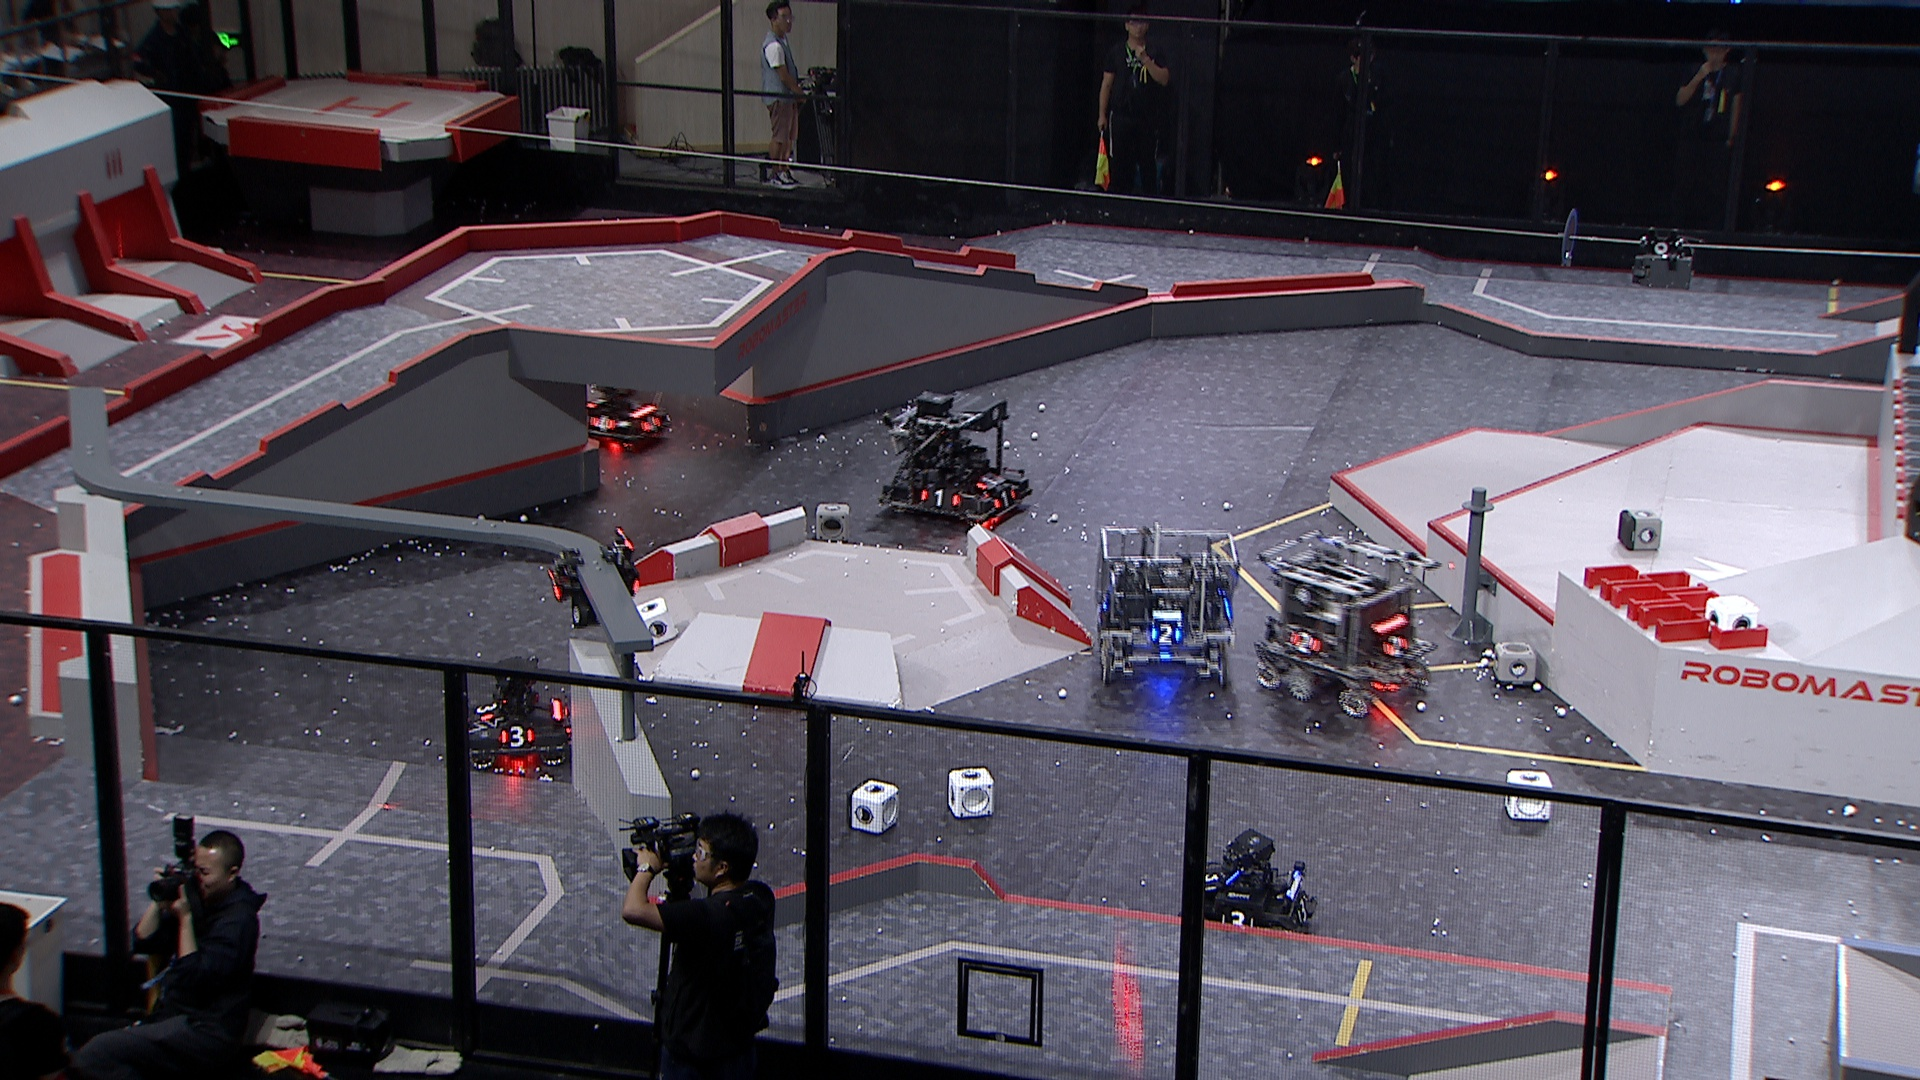armor: (1287, 629, 1324, 655), (1147, 622, 1185, 647), (918, 488, 964, 508), (498, 727, 537, 749), (1379, 636, 1410, 659), (1220, 910, 1257, 927), (546, 567, 564, 600), (473, 699, 498, 723), (588, 413, 617, 433), (975, 473, 1005, 491), (993, 491, 1017, 510), (641, 414, 665, 434), (1207, 869, 1226, 893), (1295, 895, 1309, 924)
car: (1250, 531, 1443, 719), (1093, 527, 1242, 687), (878, 392, 1036, 533), (1178, 829, 1319, 951), (458, 651, 578, 769), (560, 376, 671, 455)
watcher: (543, 524, 642, 632)
